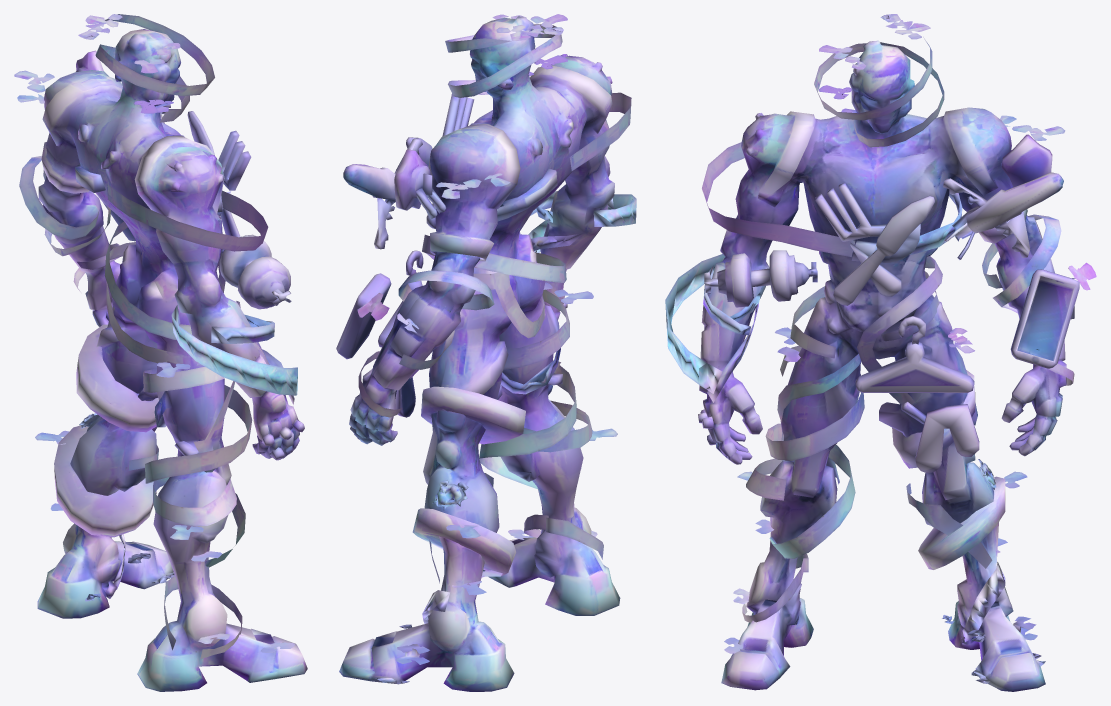
The model's file is generalista.glb.
The picture shows the model from 3 angles, left to right: view 1: azimuth 30°, elevation 25°; view 2: azimuth 150°, elevation 25°; view 3: azimuth 270°, elevation 25°; orthographic projection. The views are drawn at different scales.
Visible parts, largest first — view 1: tripo_node_266c1385-8954-4f0a-a784-d508038435e9; view 2: tripo_node_266c1385-8954-4f0a-a784-d508038435e9; view 3: tripo_node_266c1385-8954-4f0a-a784-d508038435e9.
Boxes of the visible parts, bbox=[...] form: tripo_node_266c1385-8954-4f0a-a784-d508038435e9: bbox=[14, 14, 307, 691]; tripo_node_266c1385-8954-4f0a-a784-d508038435e9: bbox=[336, 14, 636, 691]; tripo_node_266c1385-8954-4f0a-a784-d508038435e9: bbox=[665, 14, 1096, 691].
Size of the model in its own units: 0.4896 by 1.8 by 1.17.
1 material, 1 textured.
